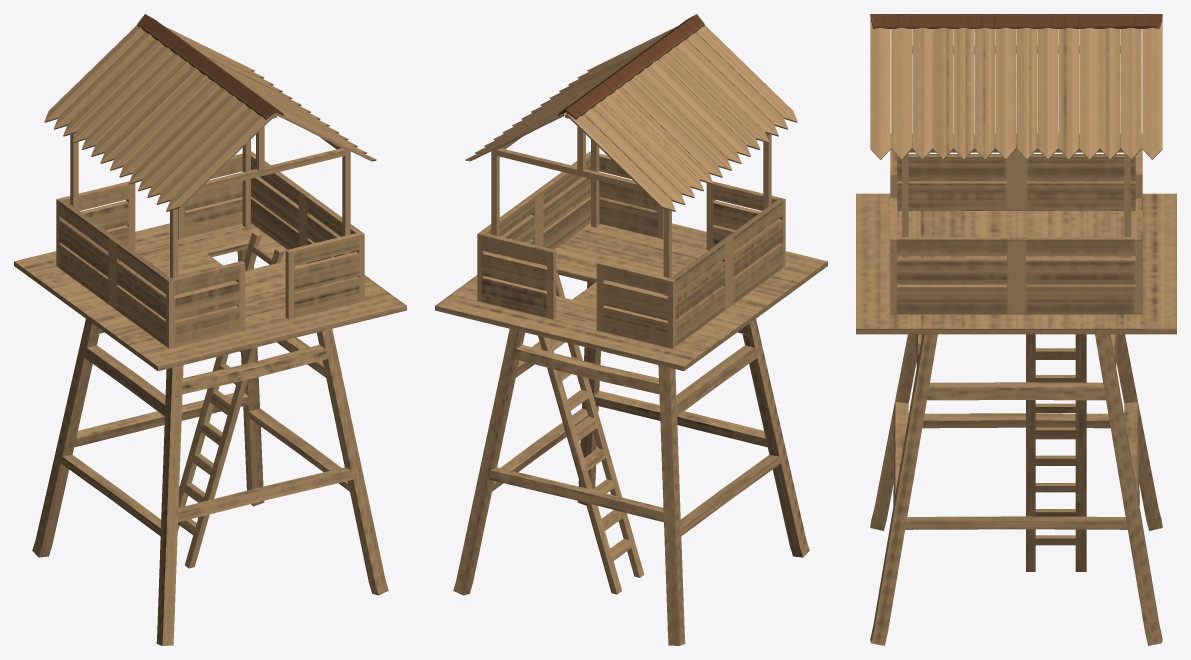
Rendered from ATT1fbx.fbx.
3 views of the same model, side by side, from view 1: azimuth 30°, elevation 25°; view 2: azimuth 150°, elevation 25°; view 3: azimuth 270°, elevation 25° (orthographic). The views are drawn at different scales.
Visible parts, largest first — view 1: cialo; view 2: cialo; view 3: cialo.
Part boxes in pixels (x1=…): cialo: x1=14, y1=14, x2=406, y2=645; cialo: x1=435, y1=14, x2=827, y2=645; cialo: x1=856, y1=14, x2=1176, y2=645.
Bounding box in the file's own units: 700 × 1379 × 700.
1 material, 1 textured.
